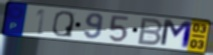1: (35, 9, 46, 35)
5: (107, 15, 132, 43)
9: (82, 12, 104, 42)
B: (135, 17, 165, 47)
M: (158, 18, 195, 51)
Q: (51, 10, 76, 39)
